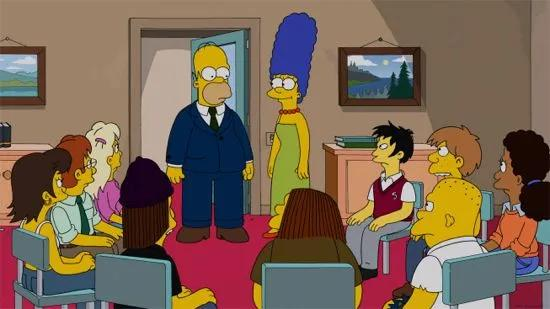Homer: (165, 38, 269, 247)
Marge: (256, 8, 332, 242)
